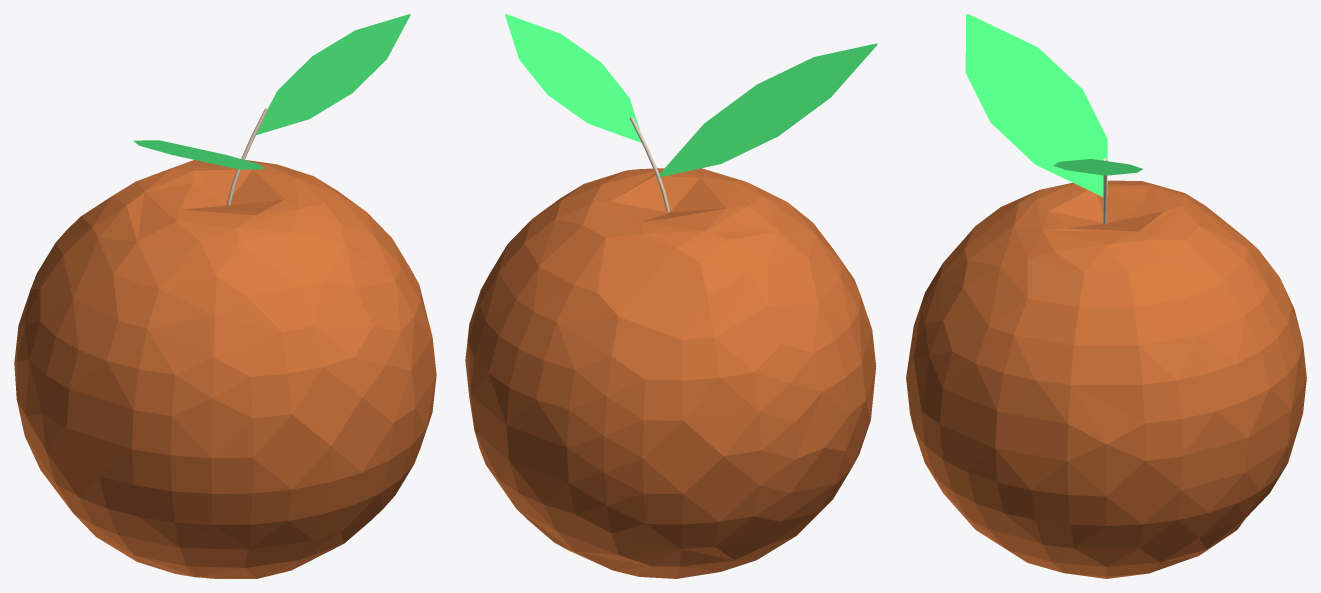
Rendered from orange.glb.
3 renders of one model, left to right at view 1: azimuth 30°, elevation 25°; view 2: azimuth 150°, elevation 25°; view 3: azimuth 270°, elevation 25°, orthographic. The views are drawn at different scales.
Visible parts, largest first — view 1: node-0; view 2: node-0; view 3: node-0.
Part boxes in pixels (box(x1,y1,x2,y2)): node-0: box(14, 14, 436, 578); node-0: box(465, 14, 877, 578); node-0: box(906, 14, 1306, 578).
Size of the model in its own units: 458 by 612 by 459.
